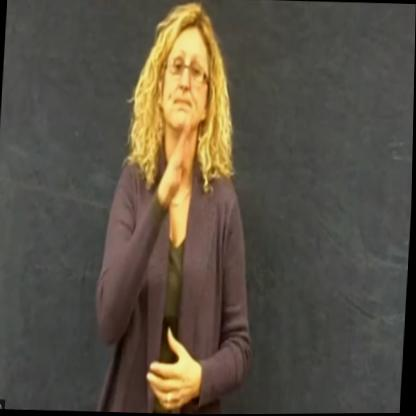Talk: (89, 0, 272, 415)
